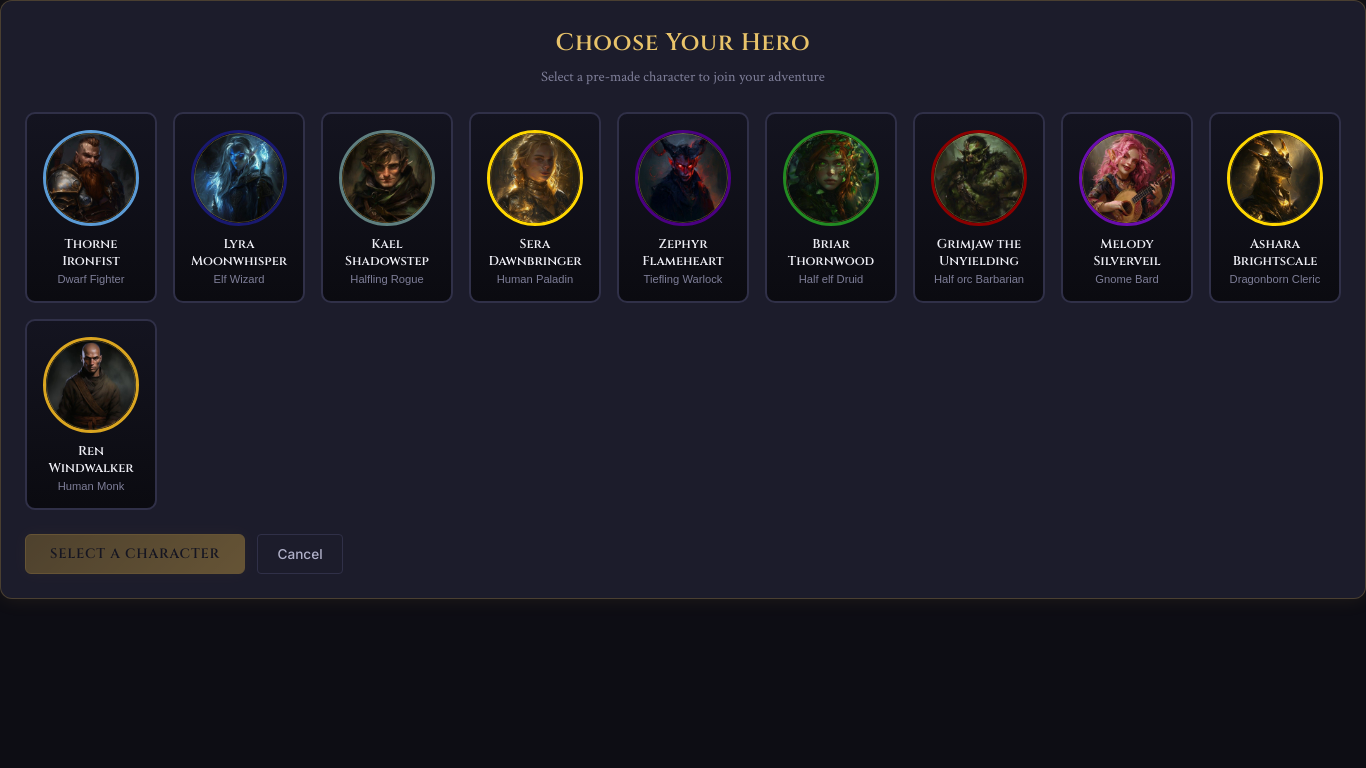
CharacterPicker › shows backstory in detail panel
Click the button with test id "picker-card-premade-lyra".
click(239, 207)  # box [173,112,305,303]
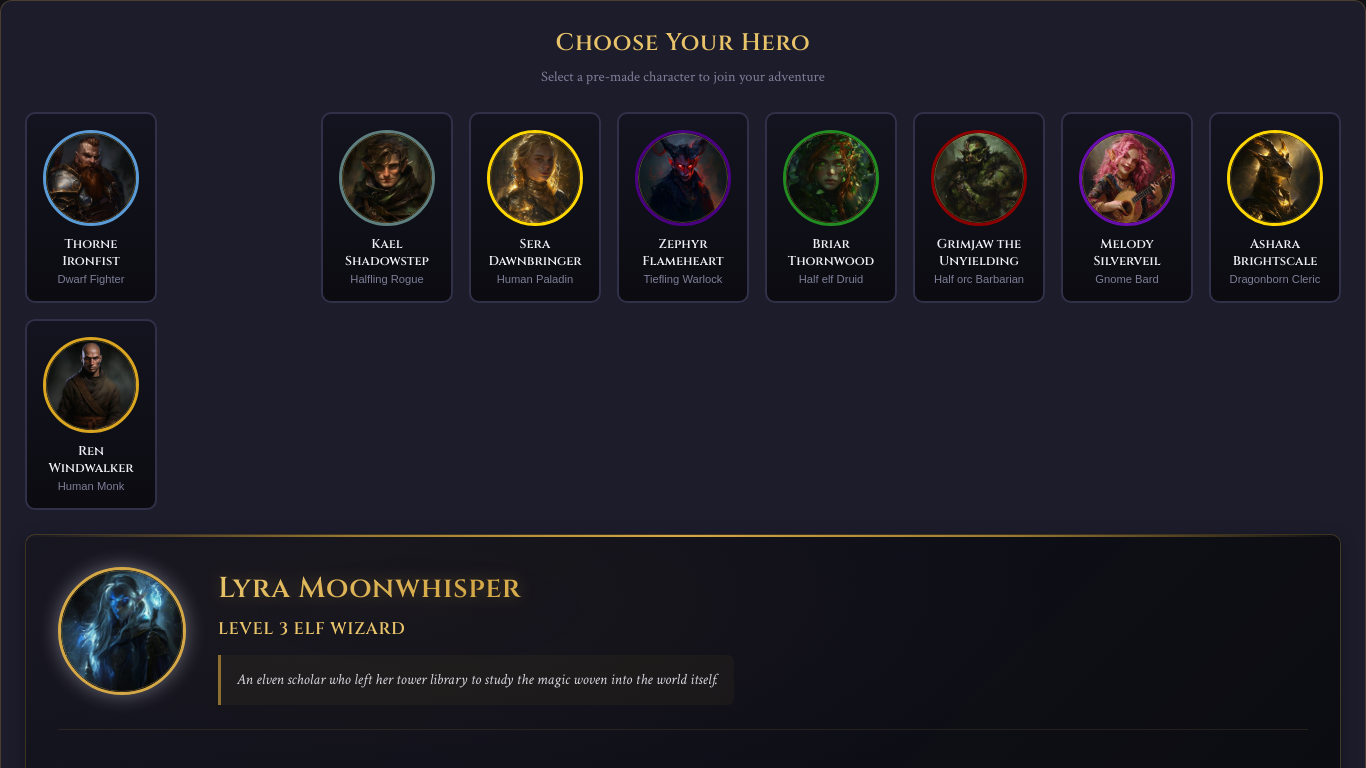
Expected: the text "elven scholar" is shown, [237,670,718,689]
